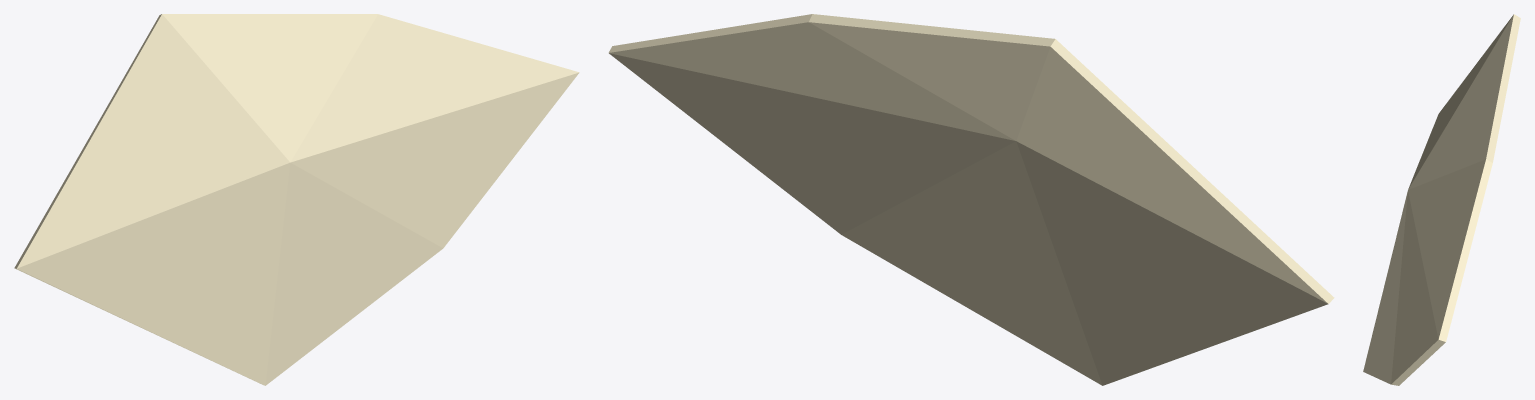
Rendered from petal_particle.glb.
3 renders of one model, left to right at view 1: azimuth 30°, elevation 25°; view 2: azimuth 150°, elevation 25°; view 3: azimuth 270°, elevation 25°, orthographic. The views are drawn at different scales.
Visible parts, largest first — view 1: PetalParticle; view 2: PetalParticle; view 3: PetalParticle.
Part boxes in pixels (x1,y1,x2,y2): PetalParticle: (14,14,579,385); PetalParticle: (608,14,1334,385); PetalParticle: (1363,14,1520,385).
Bounding box in the file's own units: 1 × 0.5572 × 0.232.
